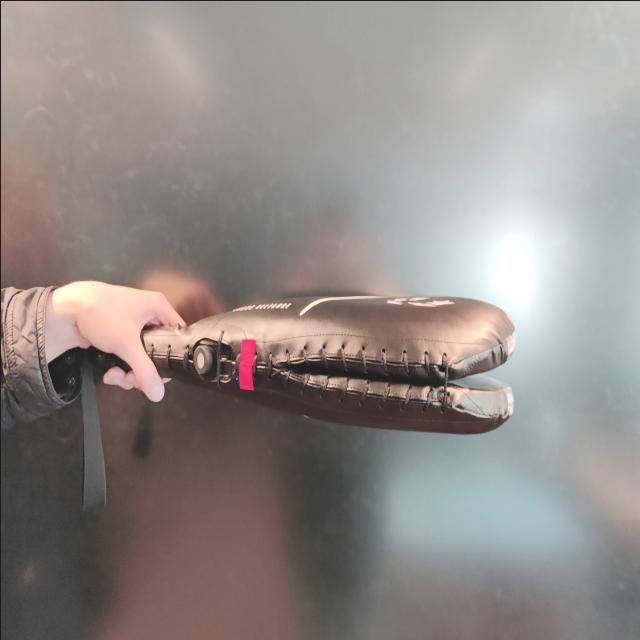paddle: (138, 289, 516, 442)
